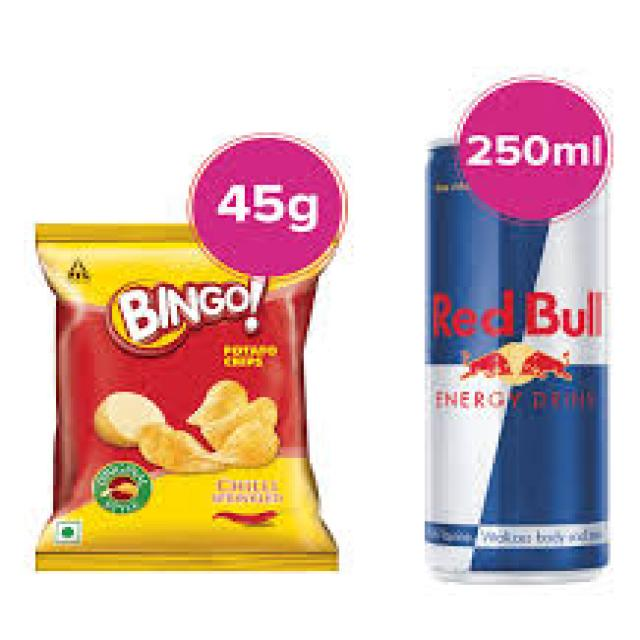red-bull: (417, 138, 607, 579)
